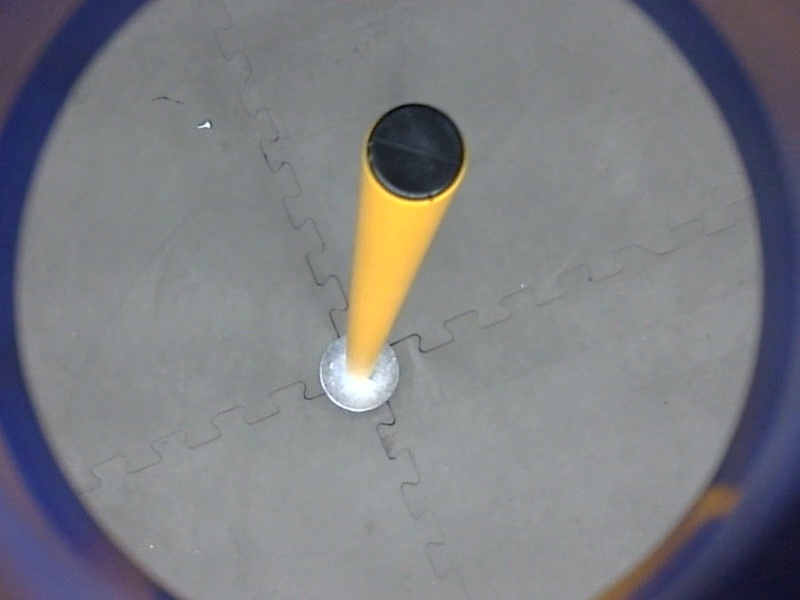tip: (357, 97, 477, 205)
